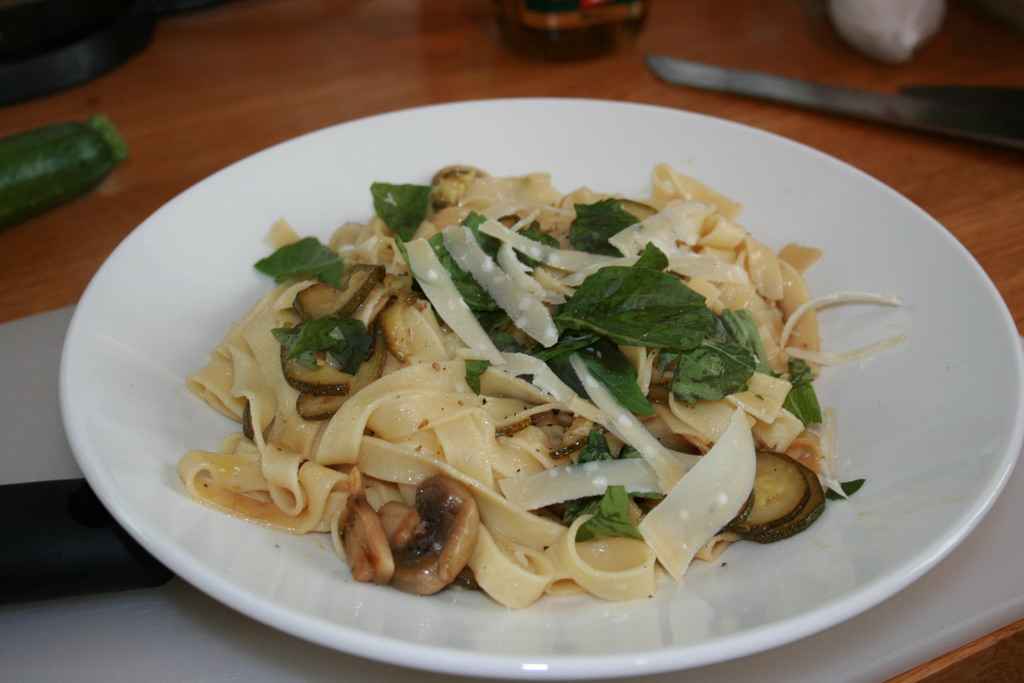pasta: (174, 161, 897, 610)
